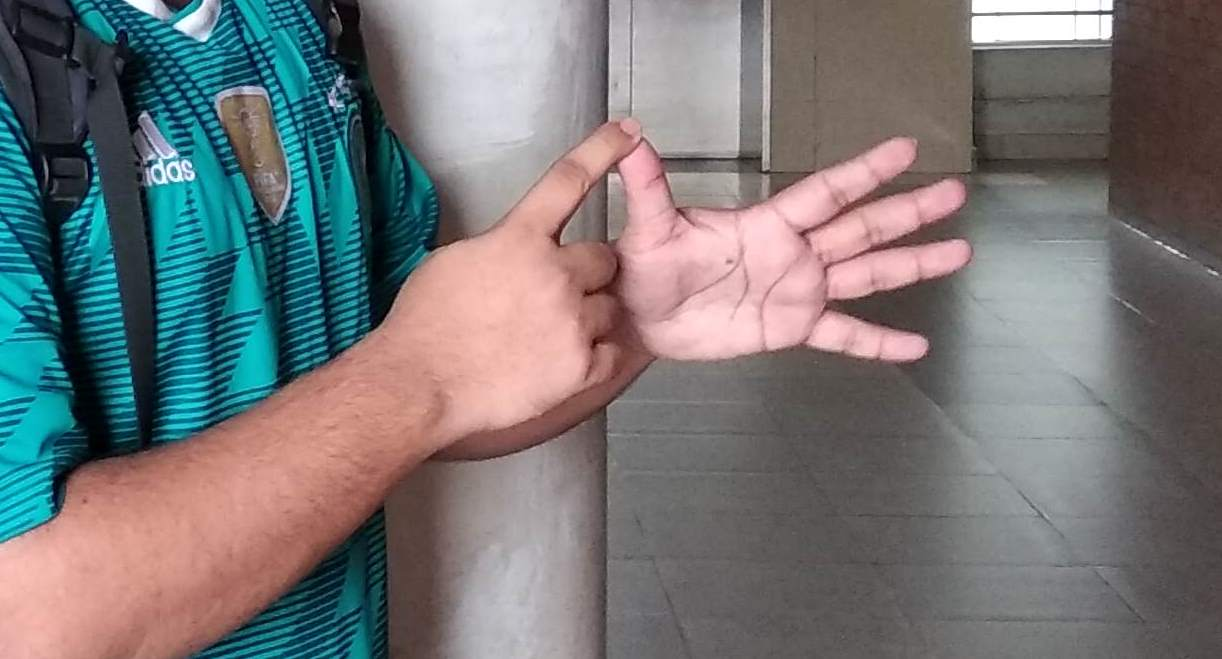a: (531, 113, 950, 379)
